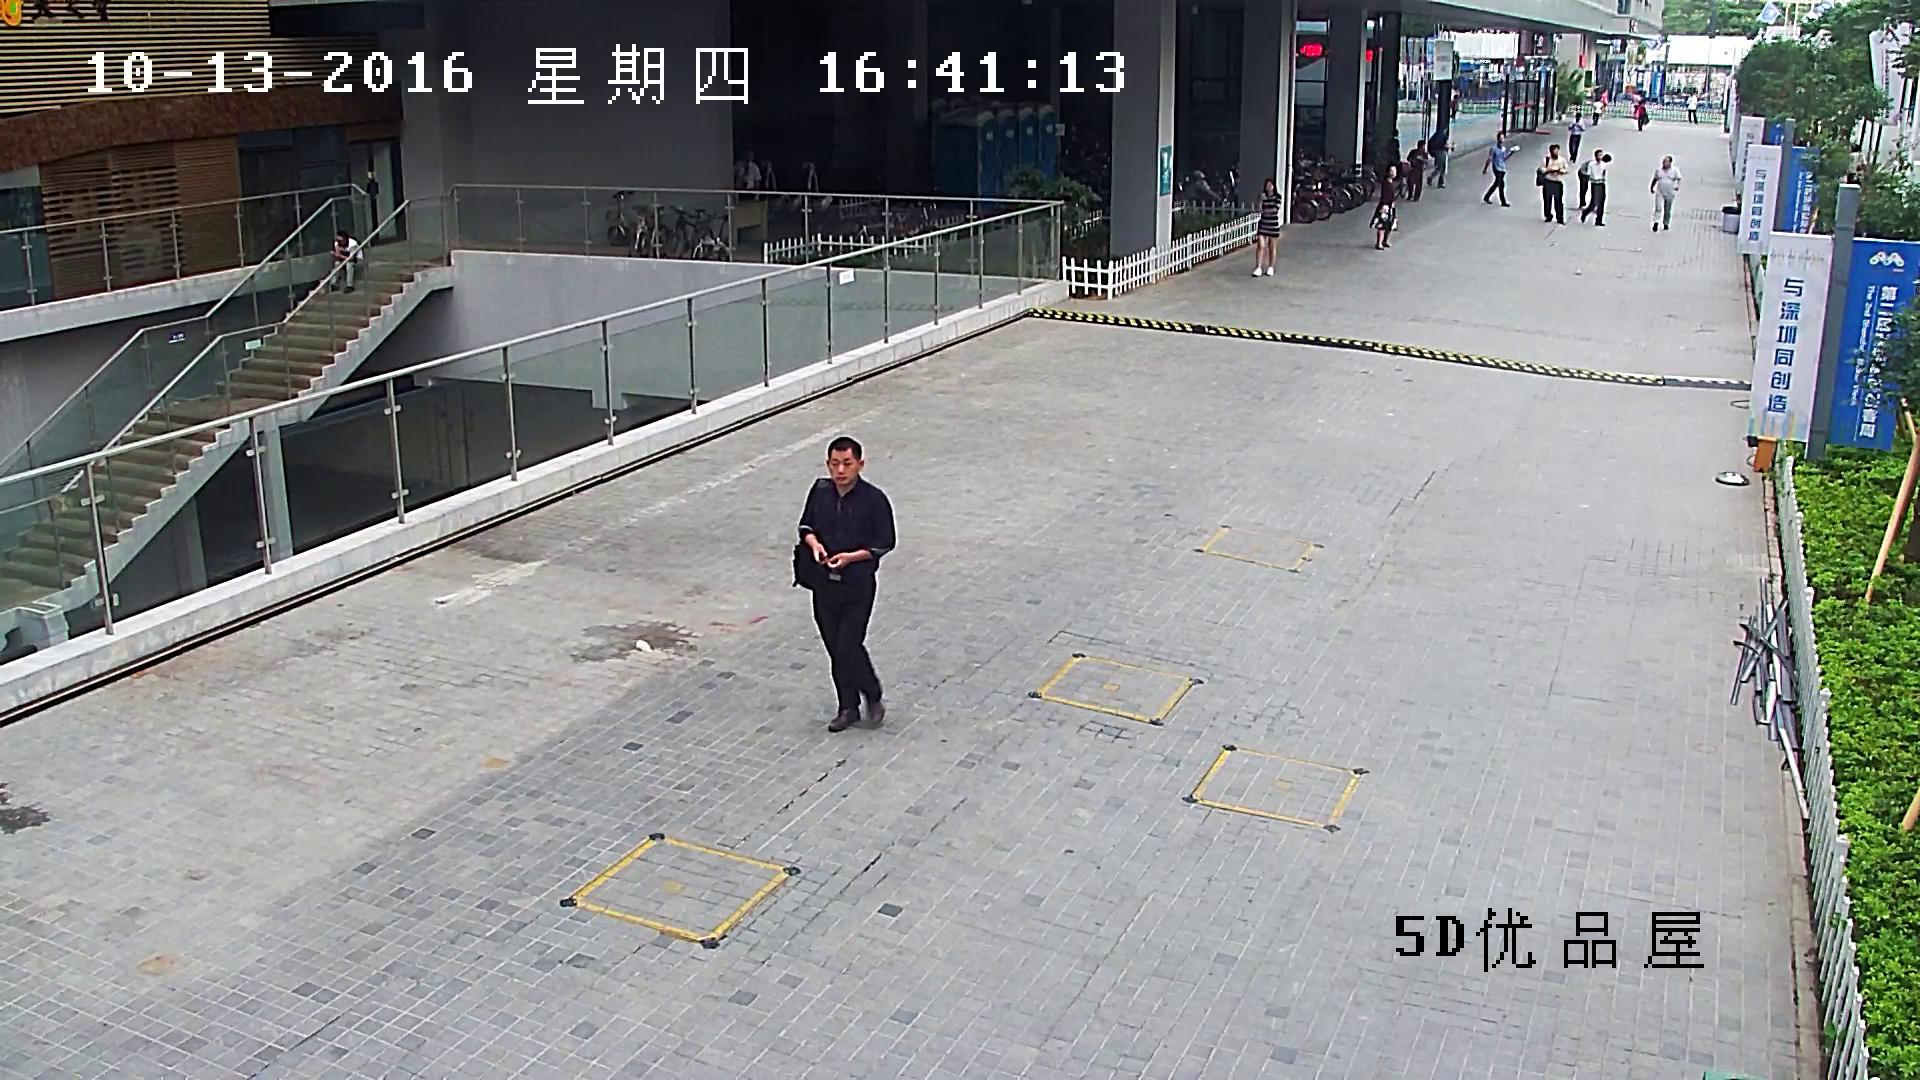person: (792, 436, 895, 731), (1252, 178, 1281, 276), (1482, 131, 1519, 207), (1536, 144, 1569, 224), (1369, 163, 1399, 249), (1650, 155, 1682, 232), (329, 229, 362, 292), (1581, 149, 1605, 225), (1427, 127, 1455, 189), (1578, 154, 1611, 206), (735, 149, 761, 200), (1406, 140, 1427, 201), (1568, 112, 1585, 161), (1847, 145, 1864, 181), (1634, 100, 1650, 130), (1686, 89, 1697, 122), (1591, 95, 1604, 125), (1450, 93, 1460, 122), (1600, 88, 1607, 115)
